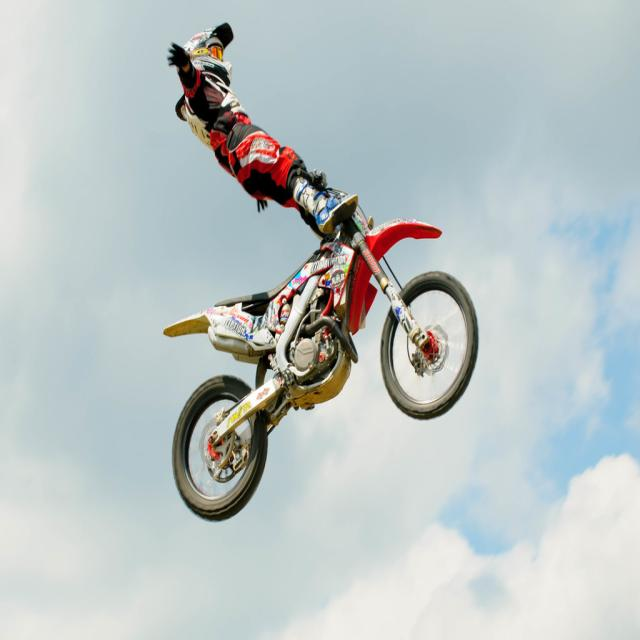Motorbikes: (162, 193, 482, 533)
